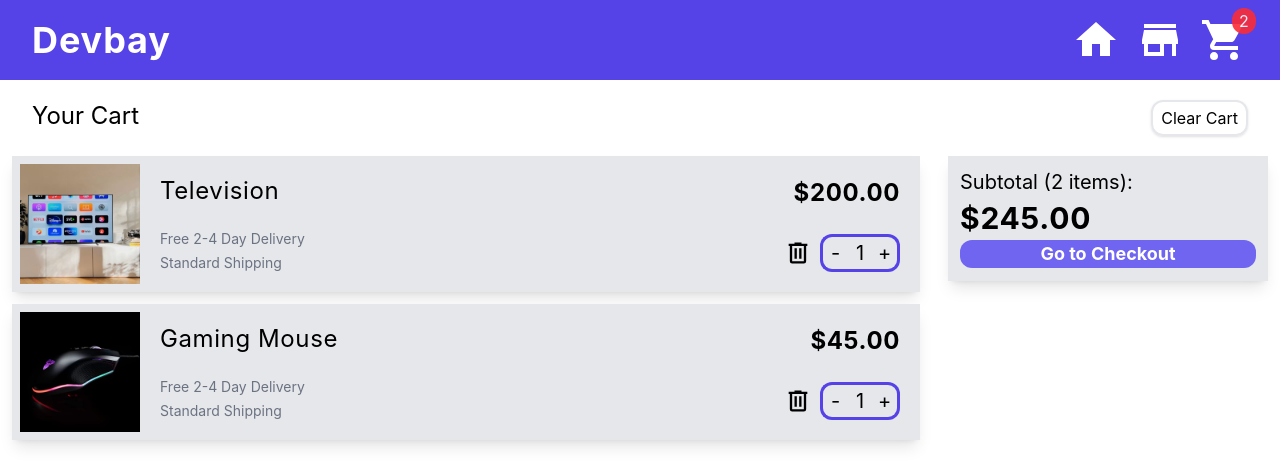
trash button removes item from cart
Click the button with test id "gaming-mouse-trash" at (798, 400), box [784,382,812,420]
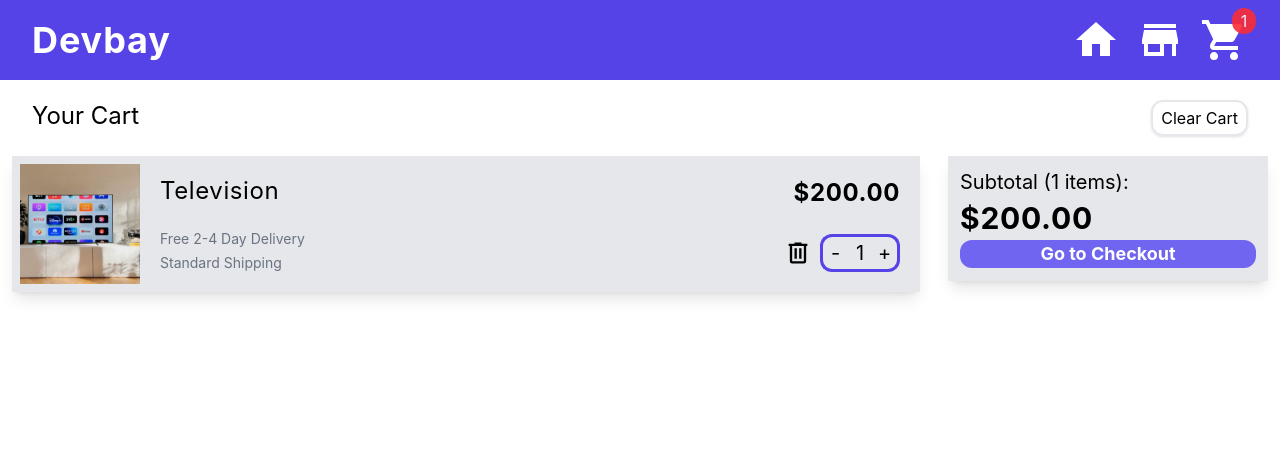
Expected: the text "Television" is shown, [160,176,279,205]
Result: the text "Gaming Mouse" is gone
Result: the text with test id "cart-size" reads "1" at [1241,11,1247,31]
